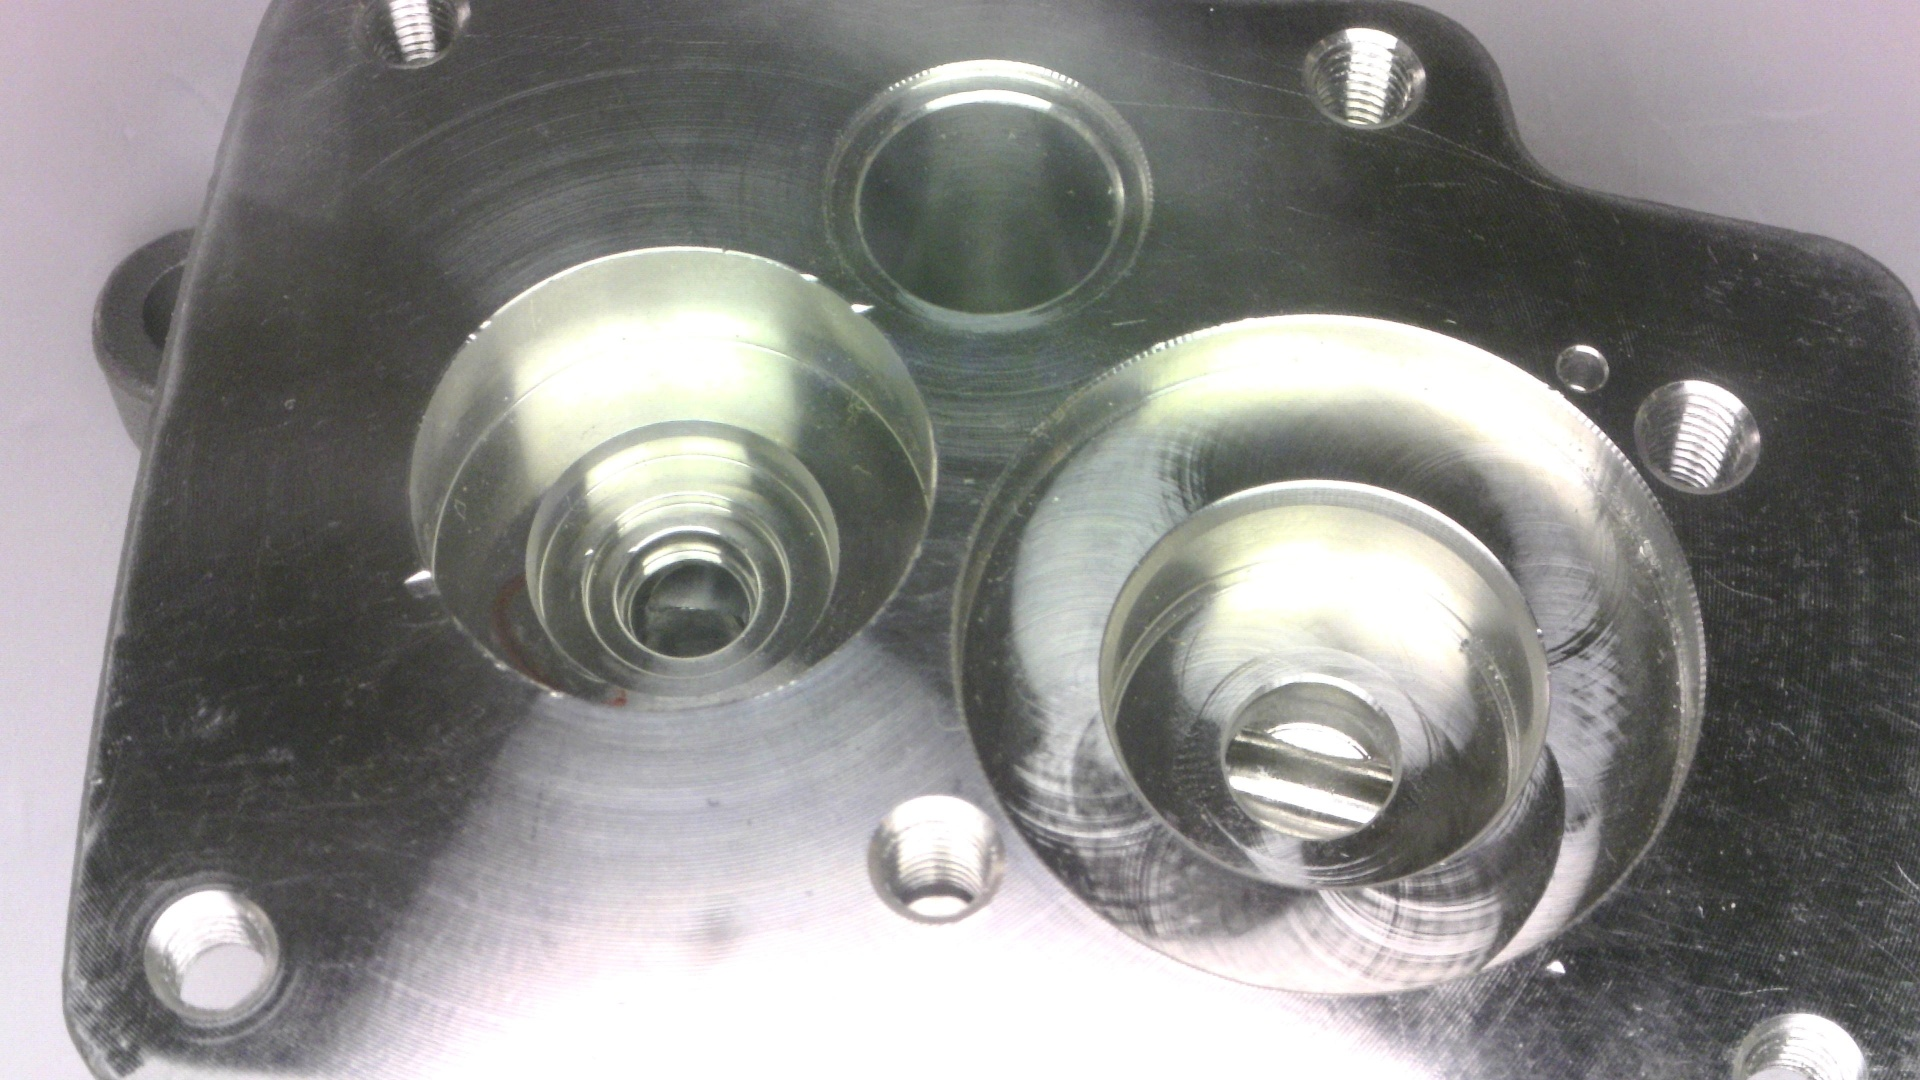chamfer_absence: (1058, 472, 1724, 632), (1166, 829, 1569, 905), (1193, 977, 1510, 1040), (1756, 102, 1920, 186), (1257, 1048, 1476, 1080)
chamfer_presence: (1821, 589, 1920, 655)
